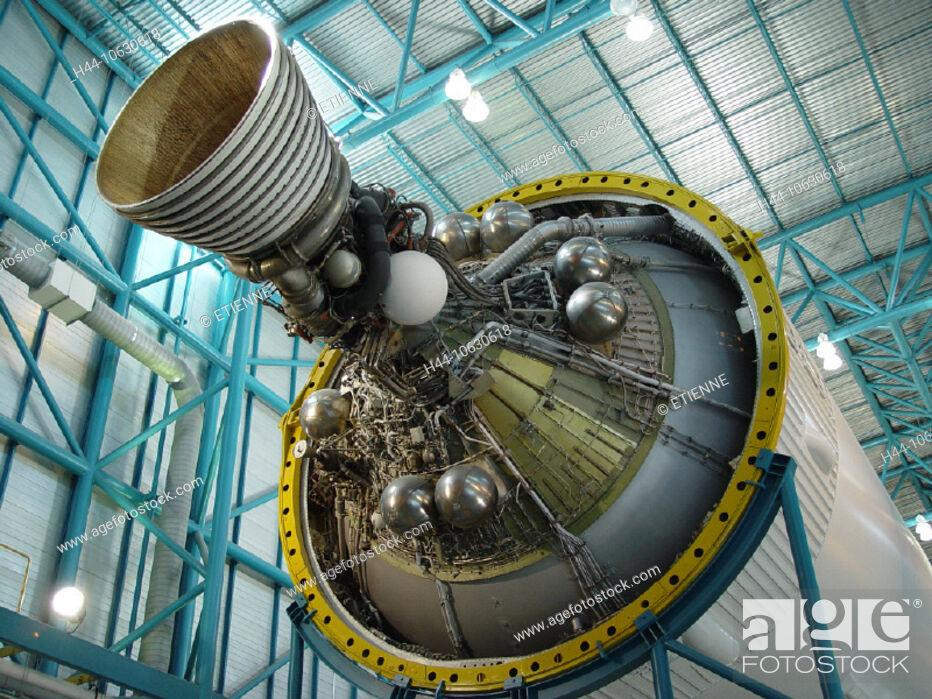body: (273, 167, 932, 699)
thruster: (91, 11, 355, 277)
